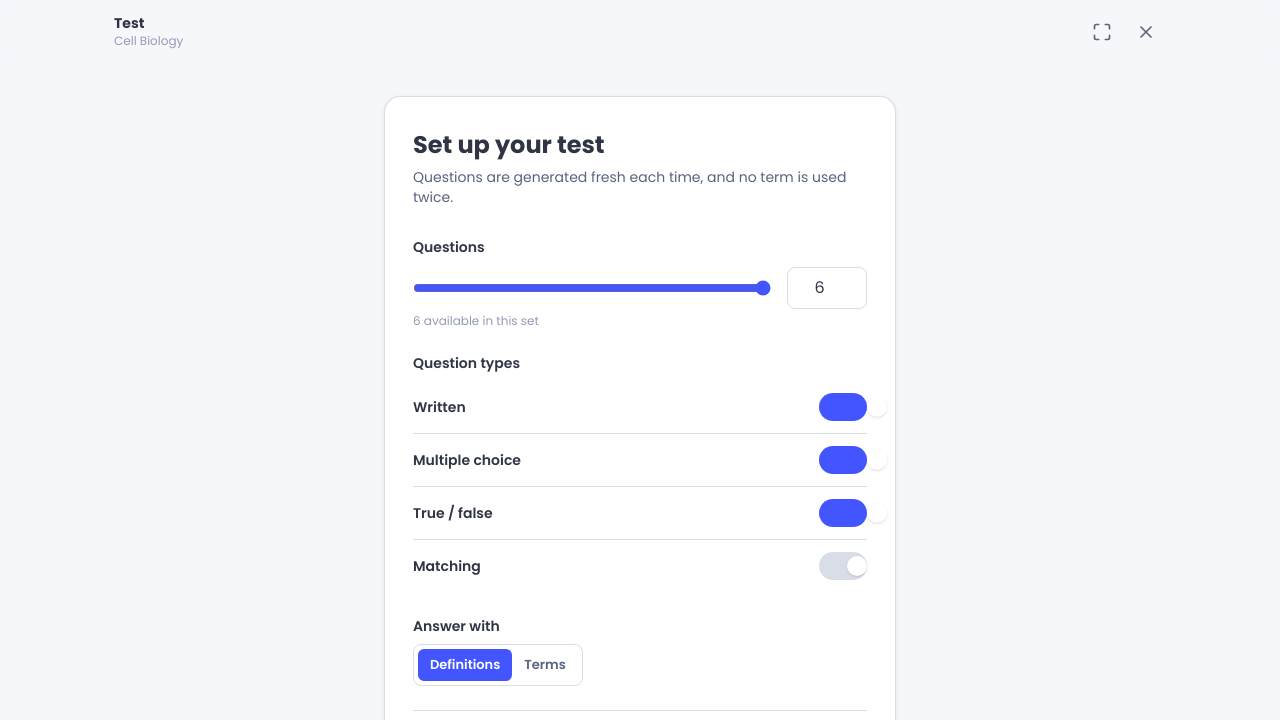
Scenario: Test › generates the requested number of questions
Expected: the heading "Set up your test" is shown, [413,128,605,161]
Click the switch named "Multiple choice" at (843, 460), box [819,446,867,474]
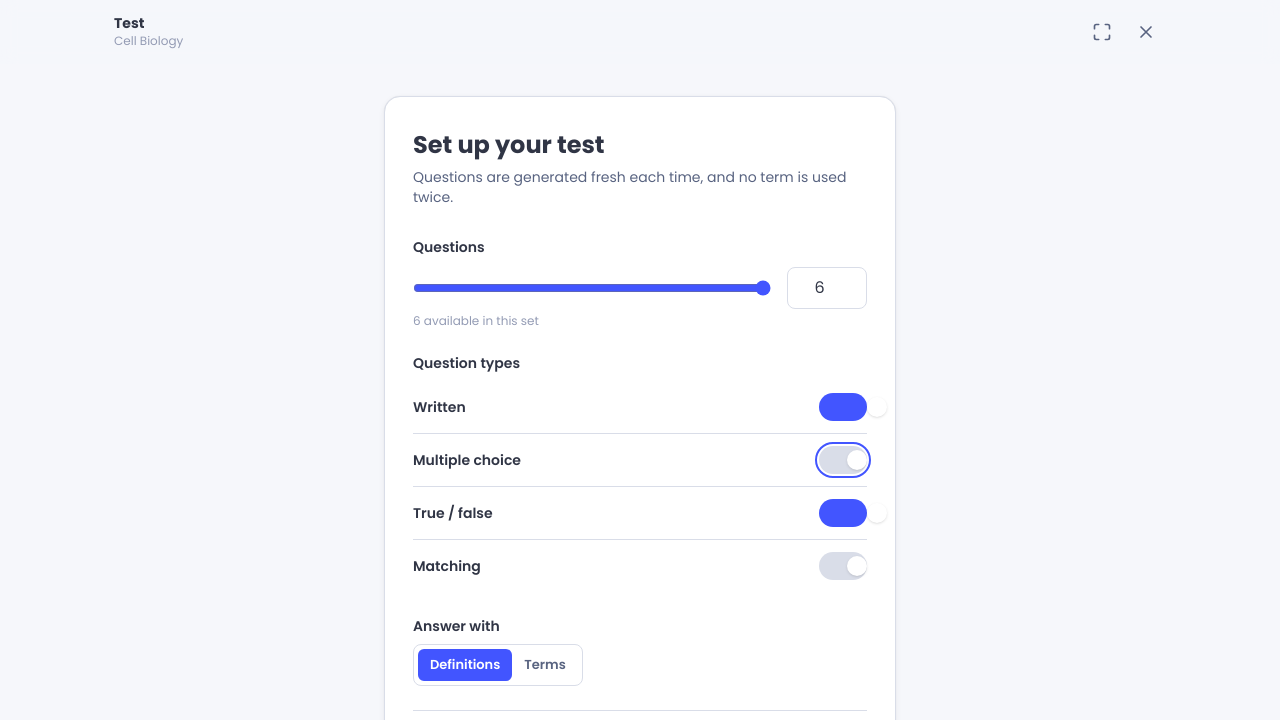
Click the switch named "True / false" at (843, 513), box [819,499,867,527]
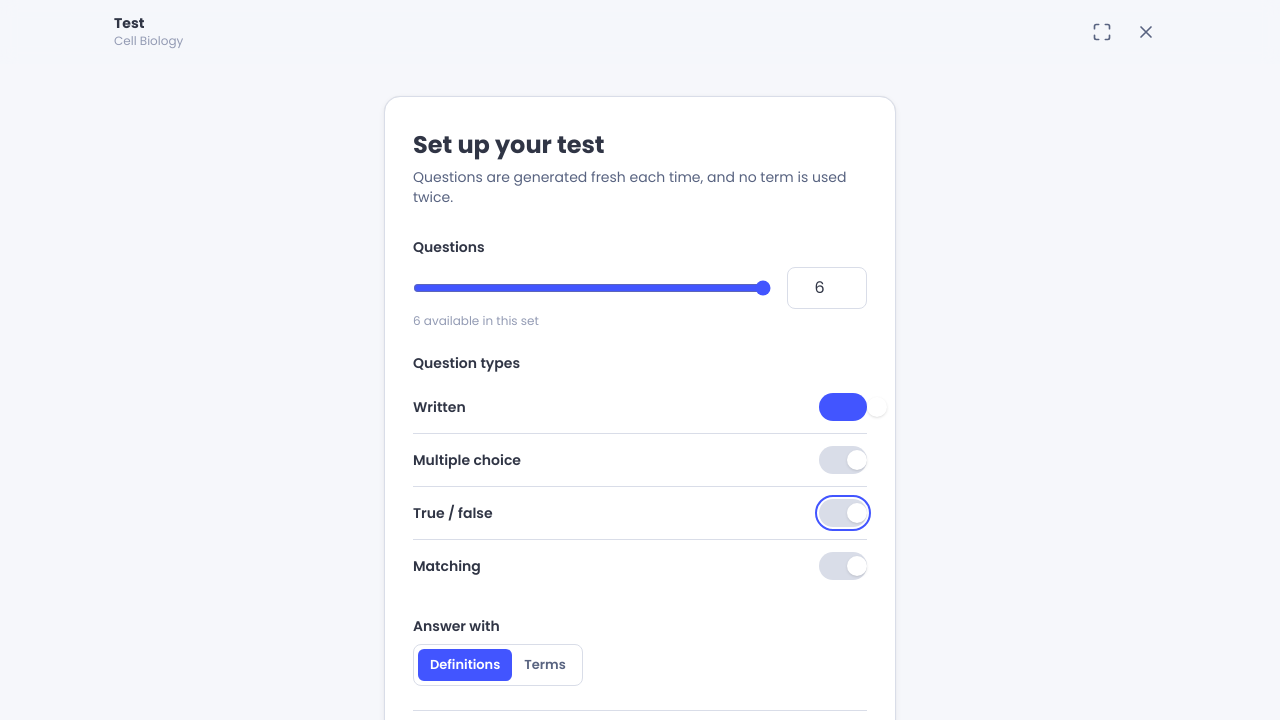
Replace the text in the number field named "question count" with "3" at (827, 288), box [787,267,867,309]
(page scrolled)
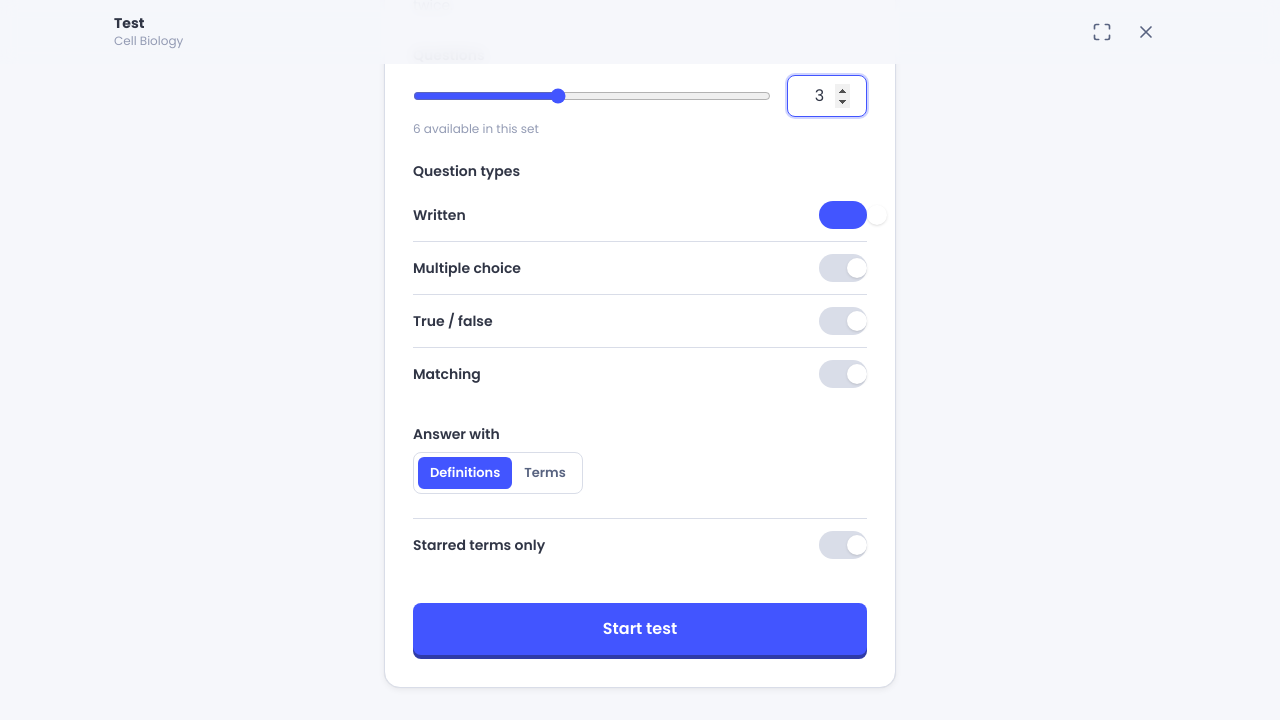
Click the button "Start test" at (640, 628), box [413,602,867,654]
(page scrolled)
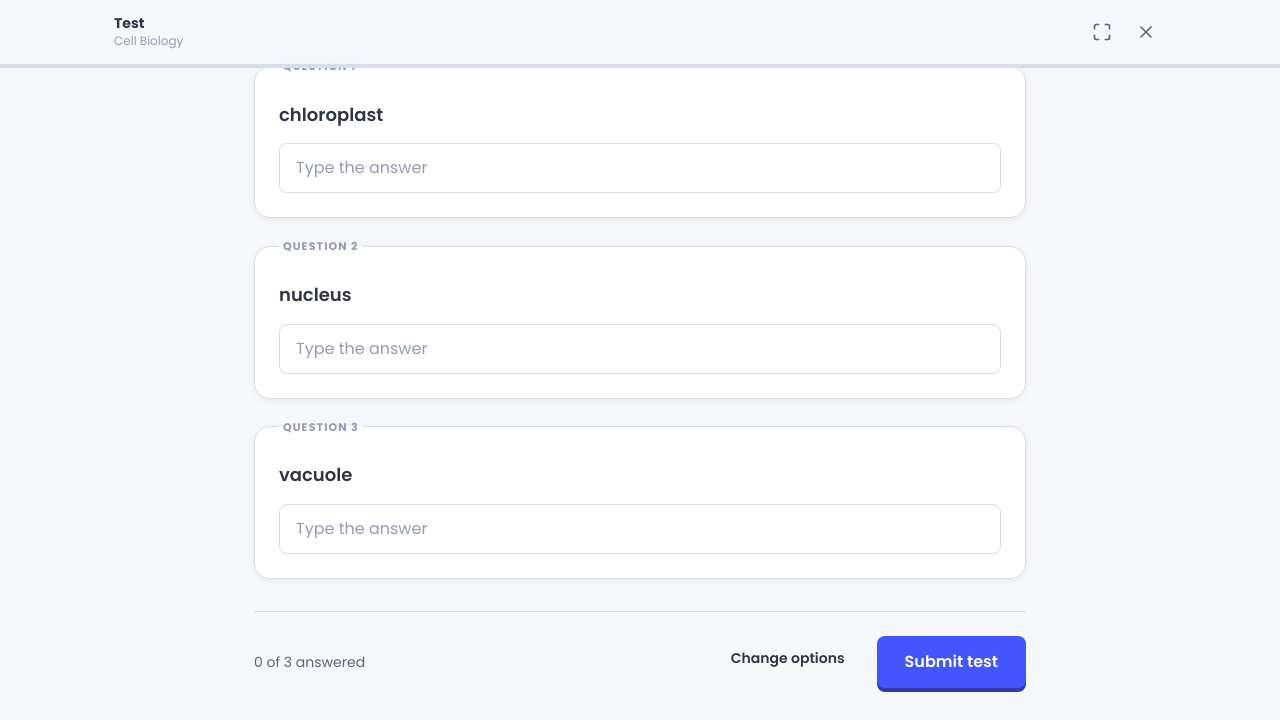
Now the text "Question 1" is shown, box [279,58,360,74]
Now the text "Question 3" is shown, box [279,418,363,435]
Now the text "0 of 3 answered" is shown, box [254,652,365,672]
